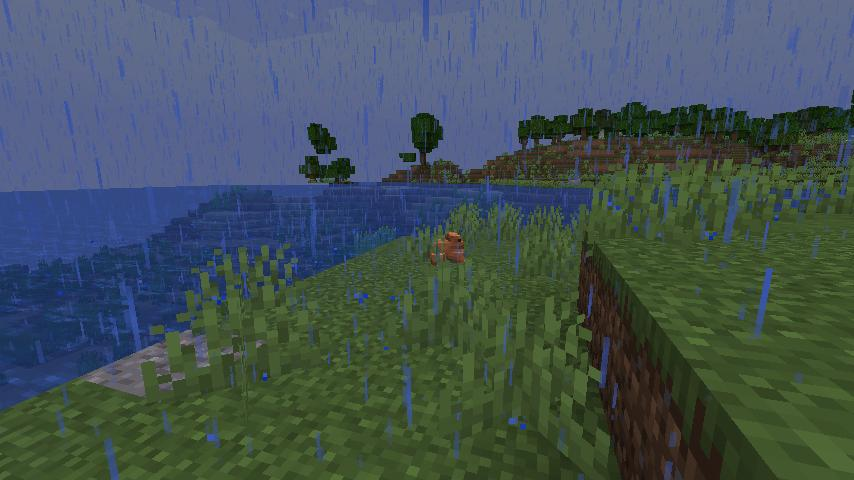frog: (426, 227, 469, 269)
